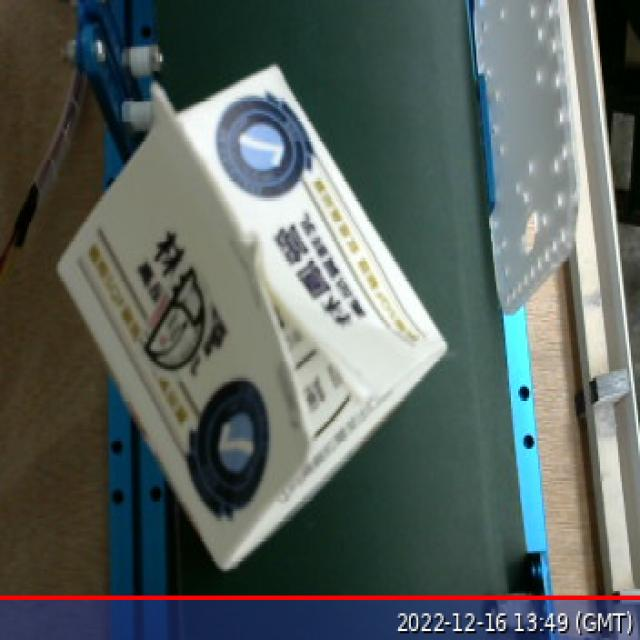non_white_jug: (28, 30, 482, 605)
